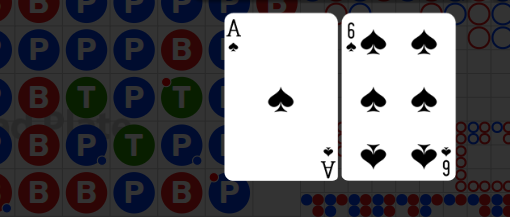6S: (439, 144, 452, 177)
AS: (226, 18, 243, 55)
